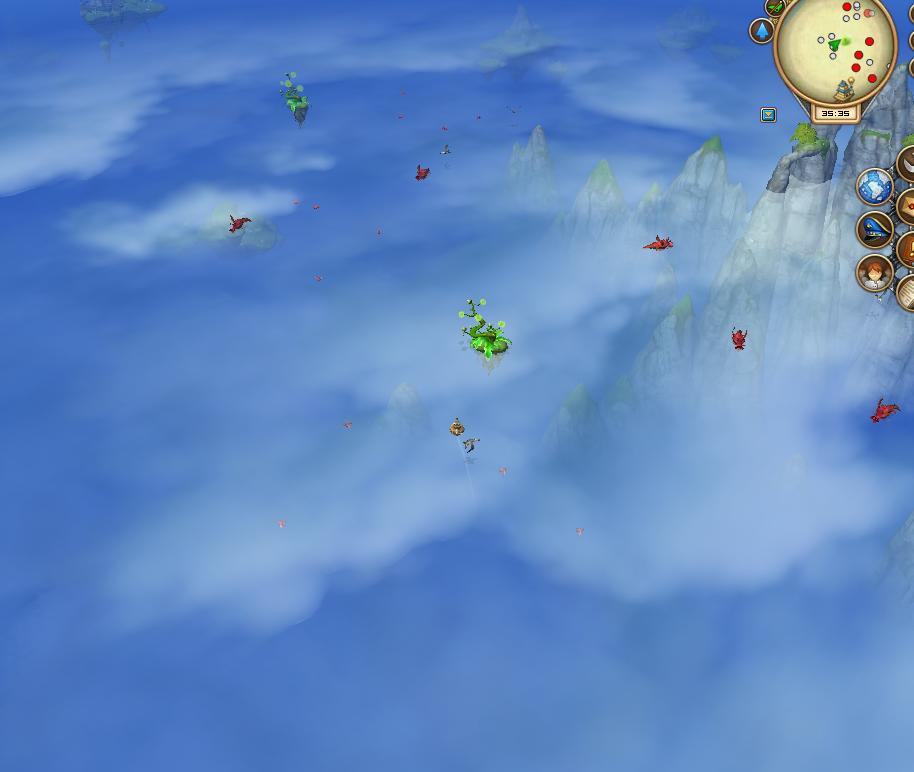dandelion-full: (452, 289, 520, 371), (276, 69, 313, 124)
